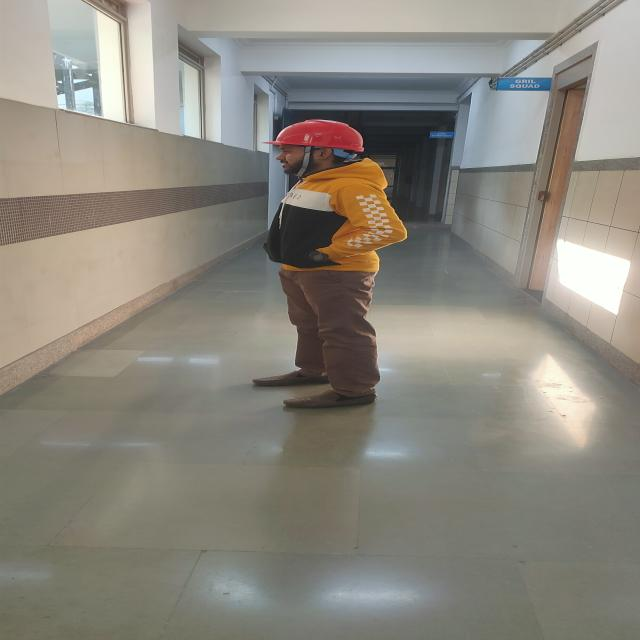no jacket: (257, 121, 404, 407)
